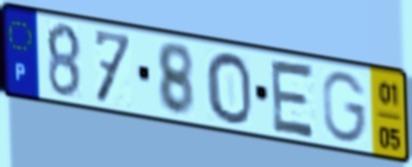7: (91, 27, 133, 107)
8: (155, 39, 197, 120), (45, 21, 84, 99)
E: (268, 56, 318, 142)
G: (320, 69, 369, 146)
O: (203, 49, 255, 127)
